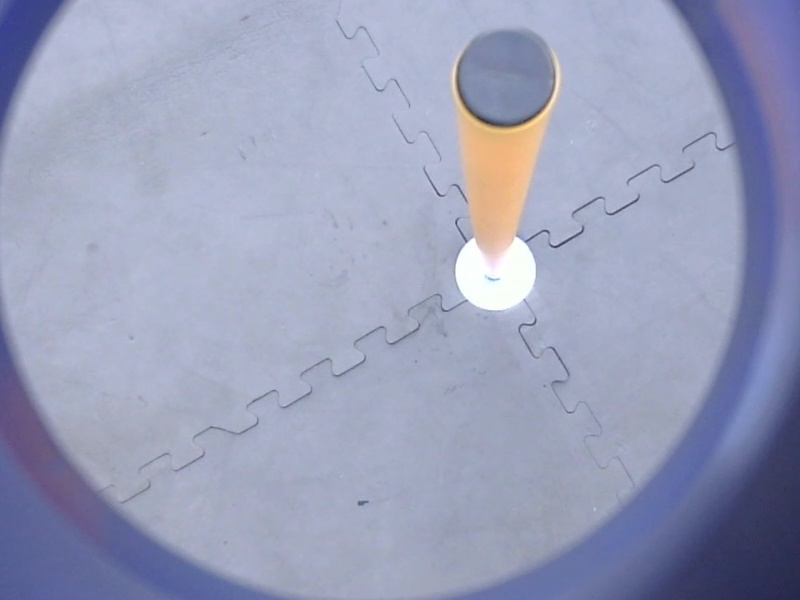tip: (446, 21, 565, 137)
